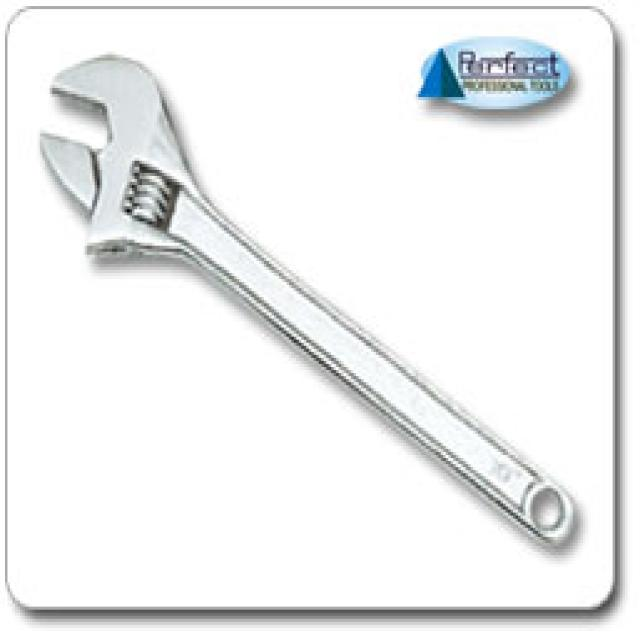wrench: (28, 46, 579, 578)
